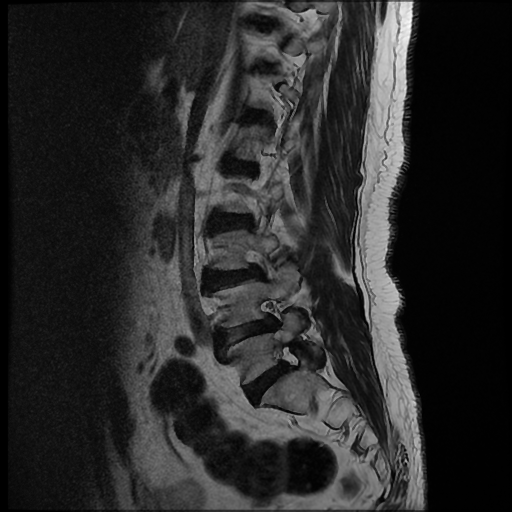RFS0: (262, 335, 311, 378), (249, 294, 292, 338)
